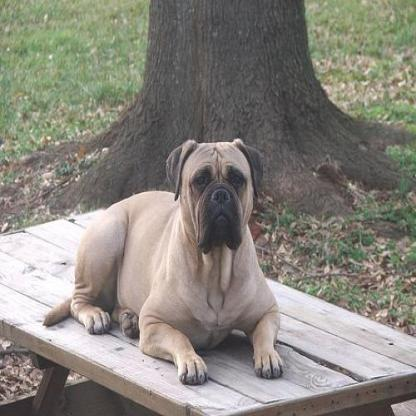bull_mastiff: (40, 135, 286, 384)
